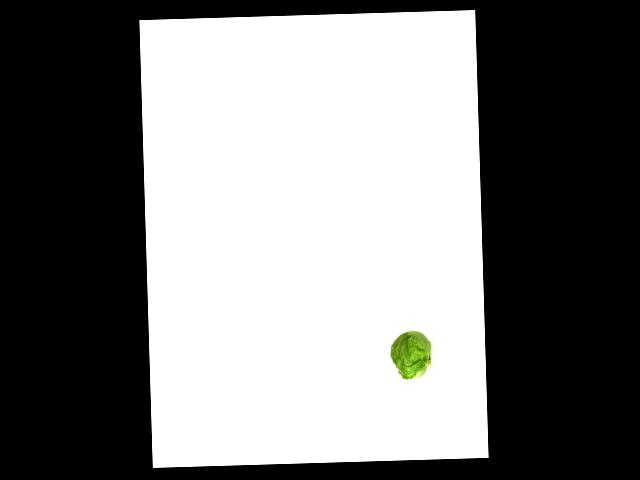lettuce: (385, 326, 431, 385)
